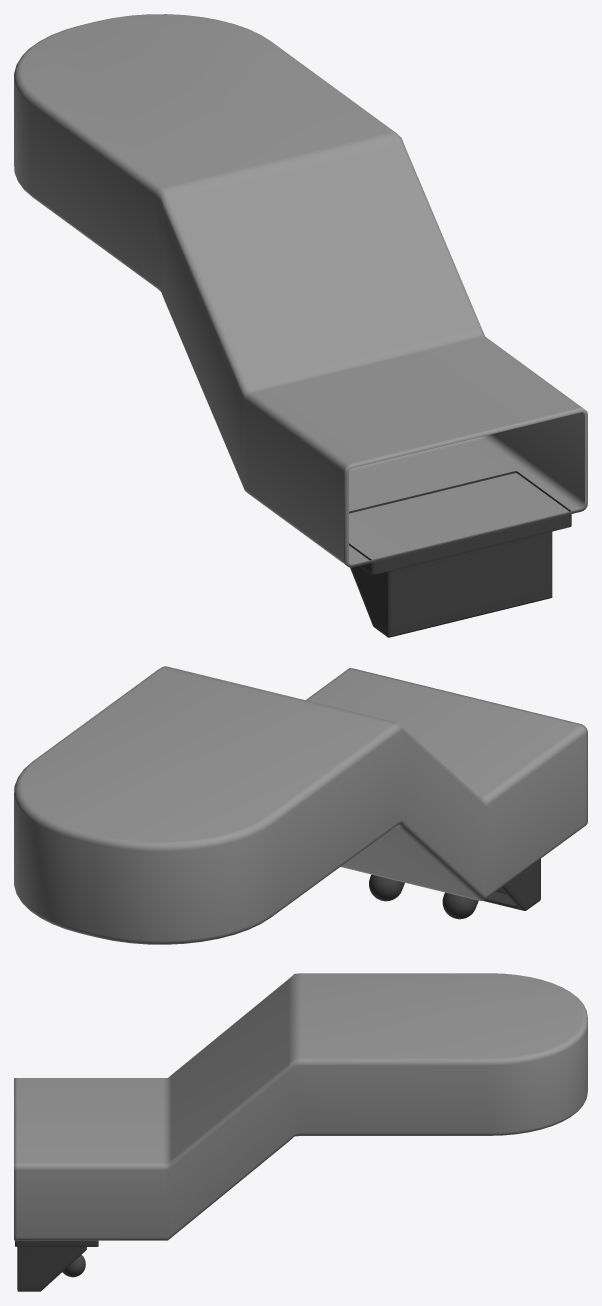
Rendered from portal_camera_base.obj.
The picture shows the model from 3 angles, top to bottom: view 1: azimuth 30°, elevation 25°; view 2: azimuth 150°, elevation 25°; view 3: azimuth 270°, elevation 25°; orthographic projection. The views are drawn at different scales.
Visible parts, largest first — view 1: portal_camera_base; view 2: portal_camera_base; view 3: portal_camera_base.
Part boxes in pixels (box(x1,y1,x2,y2)): portal_camera_base: box(14, 14, 587, 637); portal_camera_base: box(14, 666, 587, 944); portal_camera_base: box(14, 973, 587, 1291).
Size of the model in its own units: 0.2982 by 0.381 by 0.8102.
Materials: 2 (2 with a texture image).
